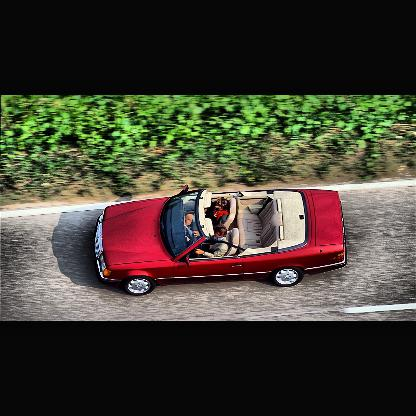Mercedes-Benz 300-Class Convertible 1993: (95, 184, 352, 297)
